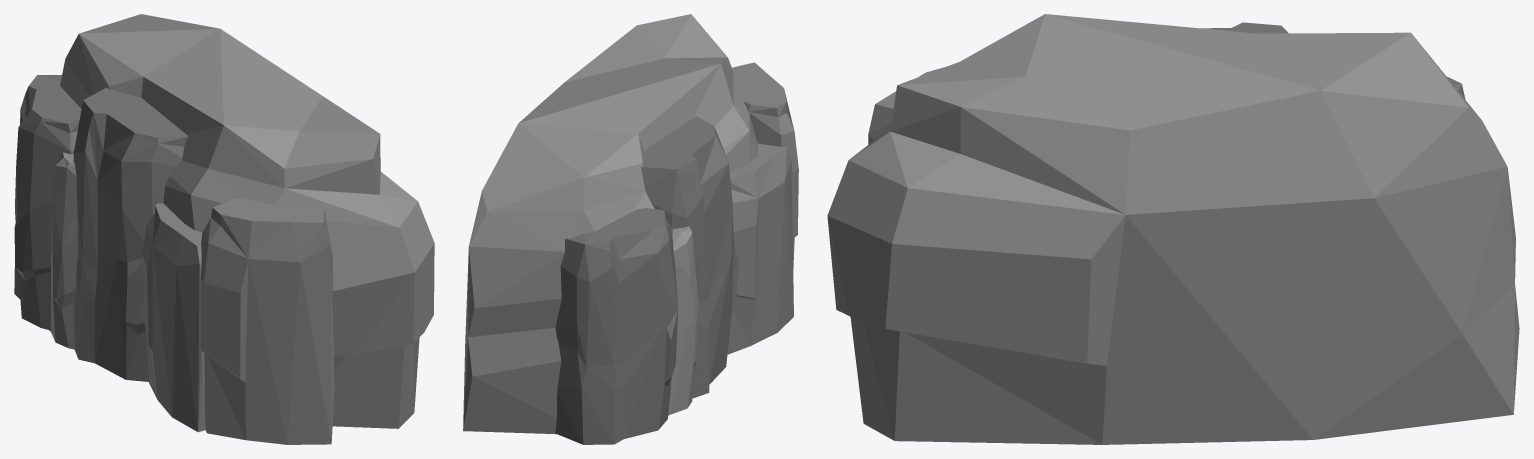
Rendered from EM_Stone1.fbx.
3 views of the same model, side by side, from view 1: azimuth 30°, elevation 25°; view 2: azimuth 150°, elevation 25°; view 3: azimuth 270°, elevation 25° (orthographic). The views are drawn at different scales.
Visible parts, largest first — view 1: EM_Stone1_LOD0; view 2: EM_Stone1_LOD0; view 3: EM_Stone1_LOD0.
Boxes of the visible parts, x1=… form: EM_Stone1_LOD0: x1=14, y1=14, x2=434, y2=444; EM_Stone1_LOD0: x1=463, y1=14, x2=798, y2=444; EM_Stone1_LOD0: x1=827, y1=14, x2=1519, y2=444.
Size of what is drawn, in the model's own units: 4.5 by 4.92 by 8.9.
